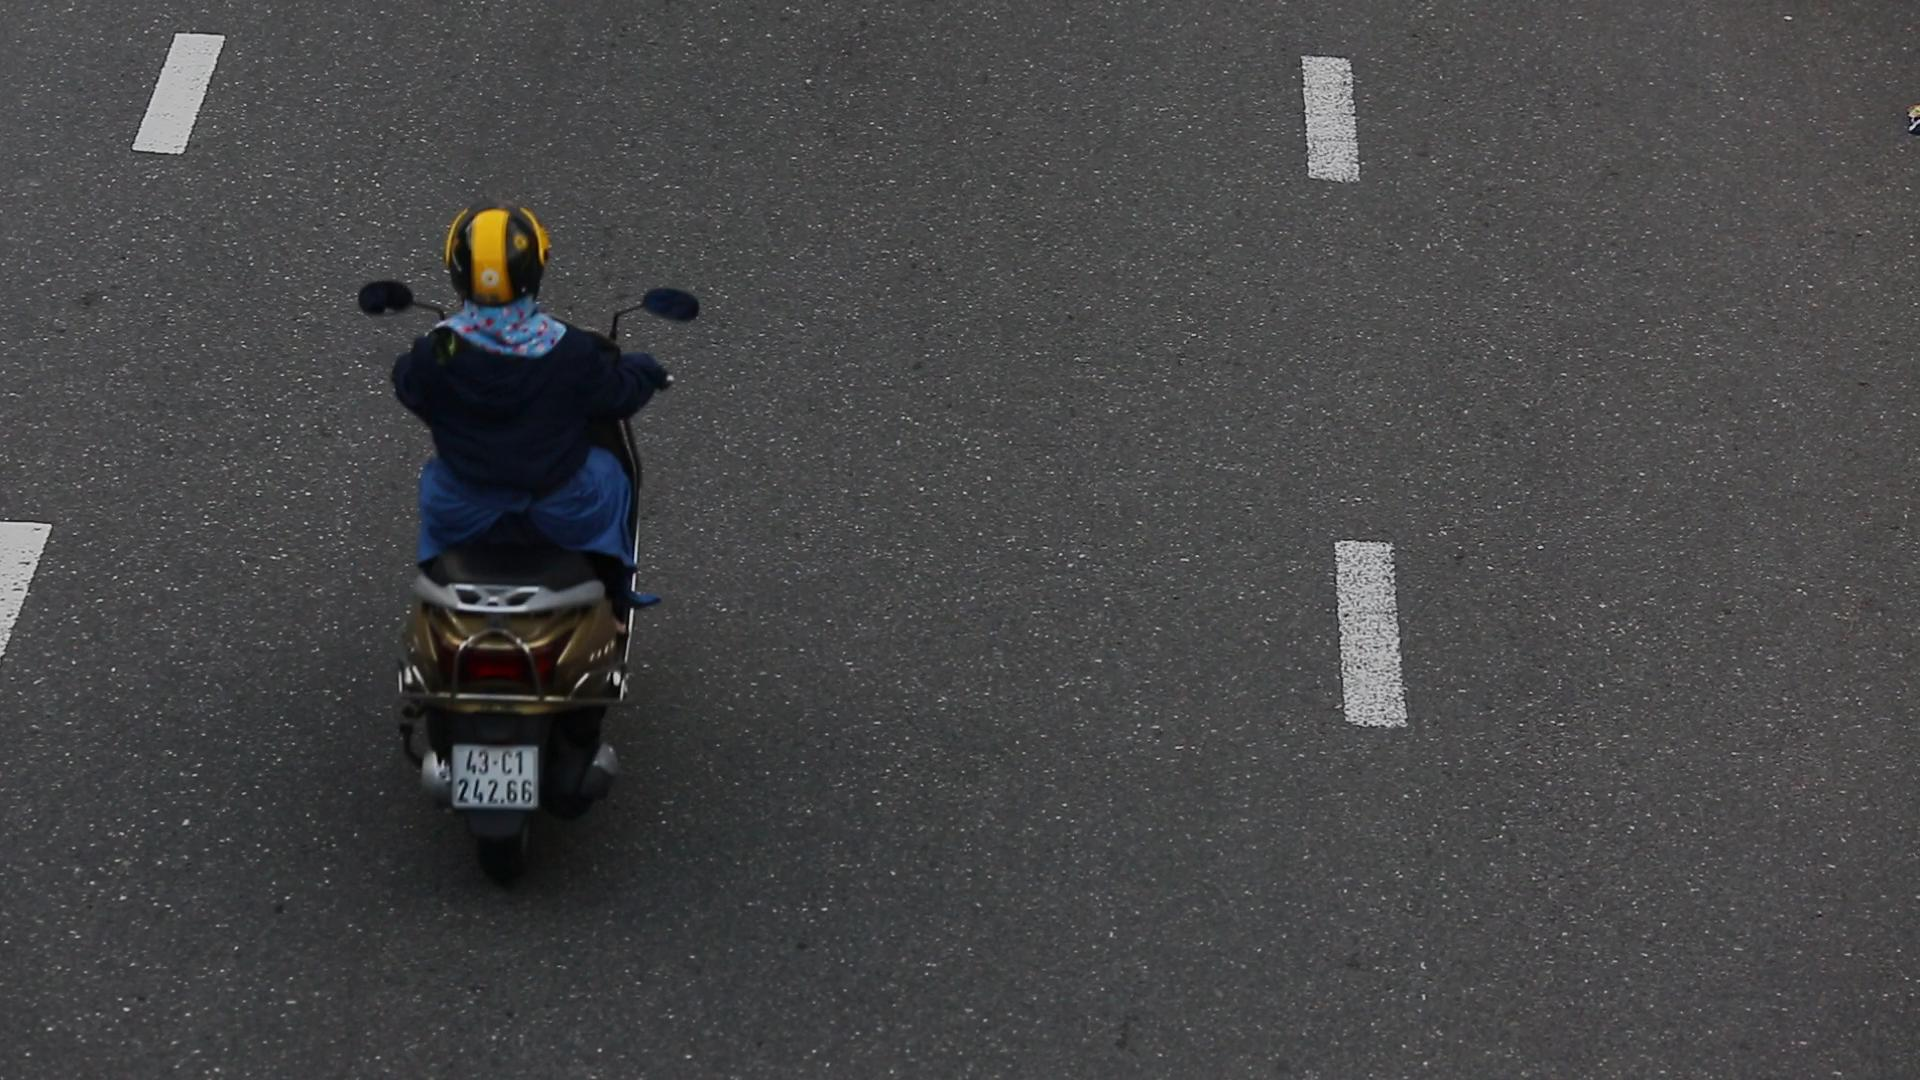motobike: (360, 187, 698, 869)
